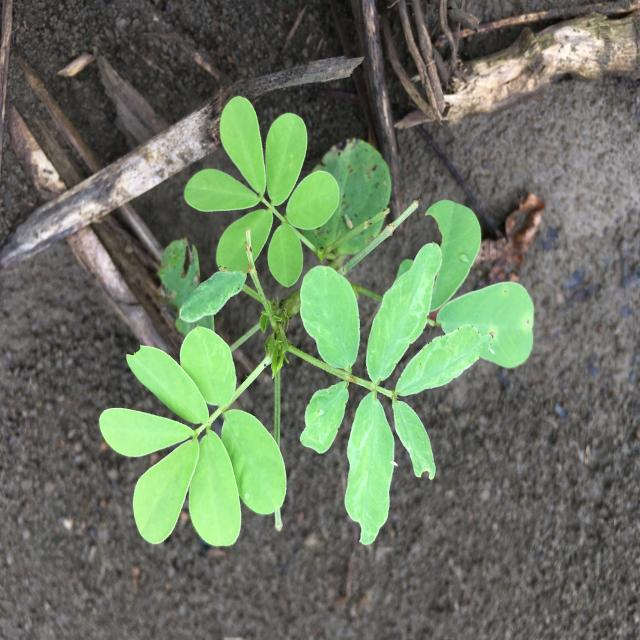Sicklepod: (100, 96, 535, 547)
